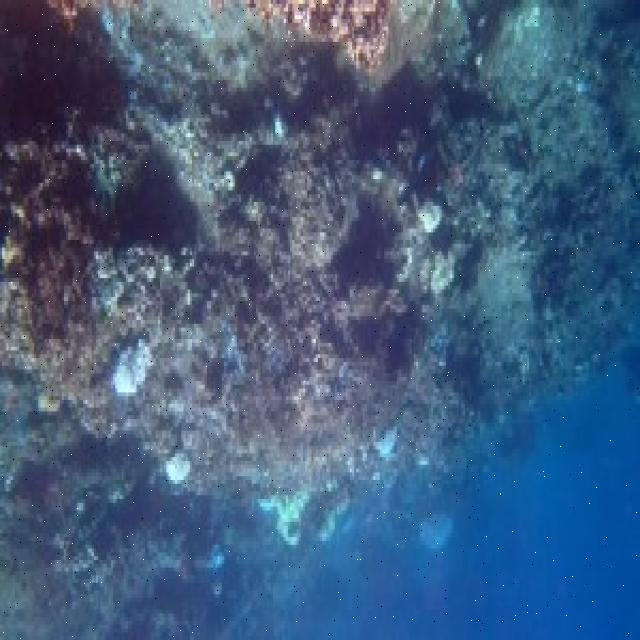Bleached: (115, 342, 152, 395), (421, 509, 458, 546), (428, 256, 453, 304), (281, 497, 305, 536), (168, 448, 190, 488), (375, 433, 400, 468), (416, 207, 441, 237)
Healthy: (553, 31, 640, 380), (4, 6, 92, 327), (1, 468, 137, 635)
